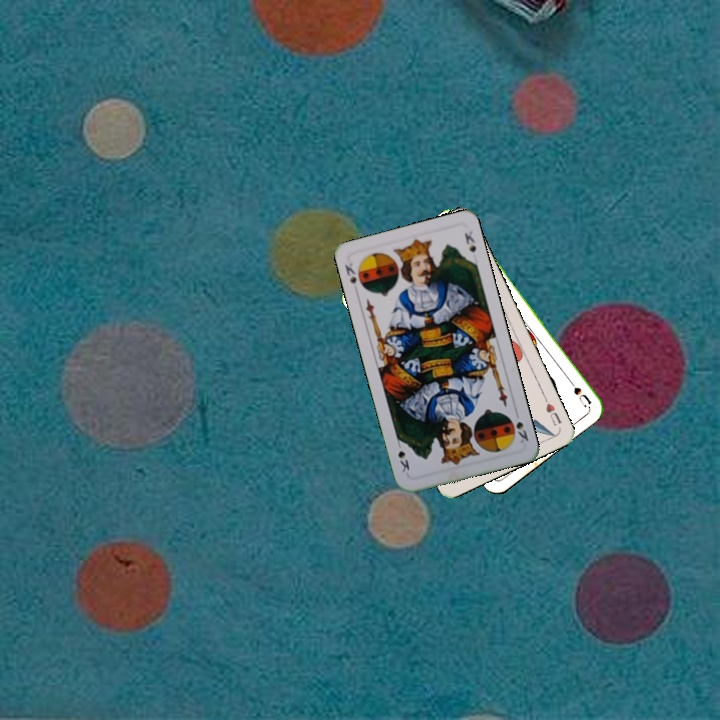HU: (540, 392, 564, 429)
SK: (512, 417, 531, 446), (341, 259, 359, 288)
SU: (562, 373, 594, 409)
